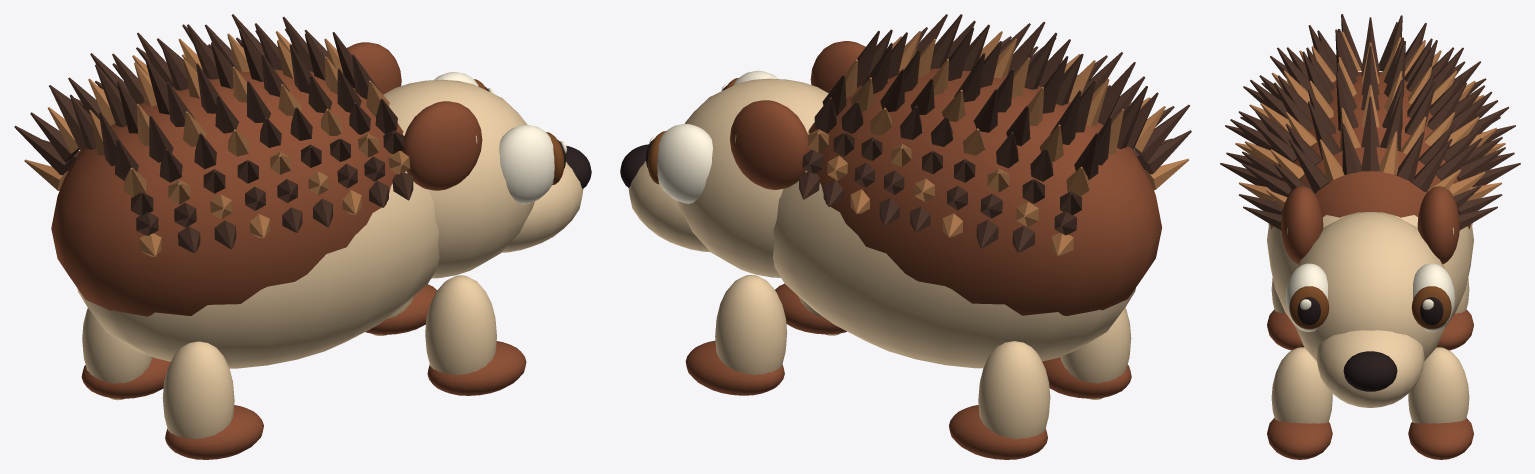
The model's file is pinpin.glb.
3 views of the same model, side by side, from view 1: azimuth 30°, elevation 25°; view 2: azimuth 150°, elevation 25°; view 3: azimuth 270°, elevation 25° (orthographic). The views are drawn at different scales.
Visible parts, largest first — view 1: Brown spine mantle, Cream body, Head, Short separated leg.001, Short separated leg, Rounded ear, White sclera, Muzzle, Short separated leg.002, Paw.001, Paw, Paw.002 (+22 smaller); view 2: Brown spine mantle, Cream body, Head, Short separated leg.003, Short separated leg.002, Rounded ear.001, White sclera.001, Muzzle, Short separated leg, Paw.003, Paw.002, Paw (+20 smaller); view 3: Head, Brown spine mantle, Muzzle, Short separated leg.001, Short separated leg.003, Cream body, Rounded ear, Rounded ear.001, Paw.001, Paw.003, Small dark nose, White sclera (+66 smaller).
Part boxes in pixels (x1=…): Brown spine mantle: x1=51, y1=69, x2=403, y2=316; Cream body: x1=77, y1=124, x2=439, y2=368; Head: x1=383, y1=79, x2=534, y2=278; Short separated leg.001: x1=425, y1=275, x2=496, y2=375; Short separated leg: x1=162, y1=341, x2=234, y2=439; Rounded ear: x1=401, y1=101, x2=482, y2=190; White sclera: x1=499, y1=124, x2=554, y2=204; Muzzle: x1=502, y1=162, x2=583, y2=252; Short separated leg.002: x1=82, y1=308, x2=152, y2=400; Paw.001: x1=427, y1=341, x2=526, y2=395; Paw: x1=165, y1=405, x2=263, y2=459; Paw.002: x1=81, y1=357, x2=170, y2=398; Brown spine mantle: x1=809, y1=68, x2=1162, y2=316; Cream body: x1=773, y1=123, x2=1135, y2=368; Head: x1=677, y1=78, x2=828, y2=277; Short separated leg.003: x1=715, y1=274, x2=787, y2=374; Short separated leg.002: x1=978, y1=341, x2=1050, y2=439; Rounded ear.001: x1=730, y1=100, x2=810, y2=189; White sclera.001: x1=657, y1=124, x2=712, y2=203; Muzzle: x1=628, y1=161, x2=710, y2=252; Short separated leg: x1=1060, y1=307, x2=1131, y2=399; Paw.003: x1=685, y1=340, x2=784, y2=395; Paw.002: x1=949, y1=405, x2=1047, y2=459; Paw: x1=1042, y1=357, x2=1131, y2=398; Head: x1=1295, y1=212, x2=1445, y2=361; Brown spine mantle: x1=1268, y1=72, x2=1472, y2=229; Muzzle: x1=1316, y1=330, x2=1424, y2=407; Short separated leg.001: x1=1271, y1=347, x2=1332, y2=423; Short separated leg.003: x1=1408, y1=347, x2=1469, y2=423; Cream body: x1=1267, y1=215, x2=1473, y2=327; Rounded ear: x1=1281, y1=186, x2=1323, y2=264; Rounded ear.001: x1=1417, y1=186, x2=1459, y2=264; Paw.001: x1=1267, y1=418, x2=1332, y2=459; Paw.003: x1=1408, y1=418, x2=1473, y2=459; Small dark nose: x1=1343, y1=351, x2=1397, y2=391; White sclera: x1=1285, y1=263, x2=1327, y2=331.
Bounding box in the file's own units: 2.18 × 1.5 × 1.28.
